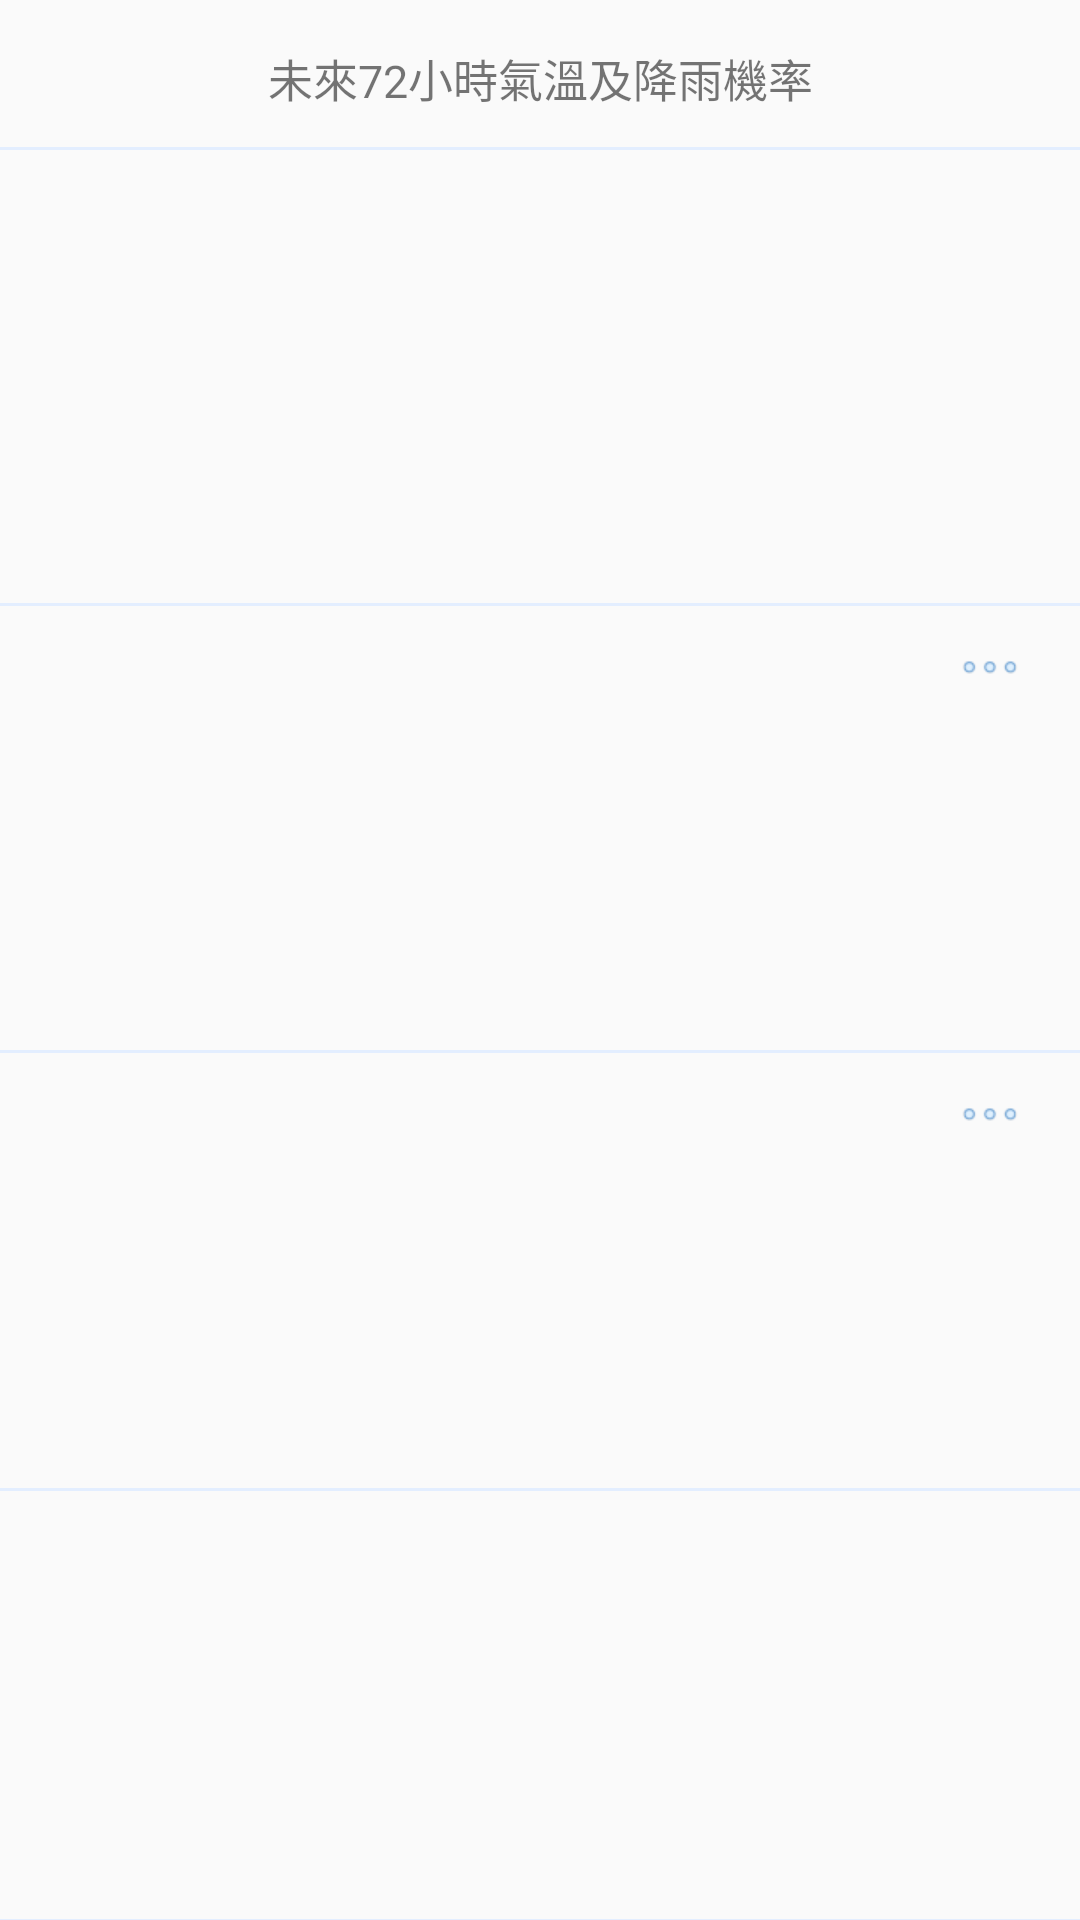

Screen size 1080w x 1920h. Icon name, then its center in pixels as point (x, y):
more: point (989, 667), point (989, 1114)
